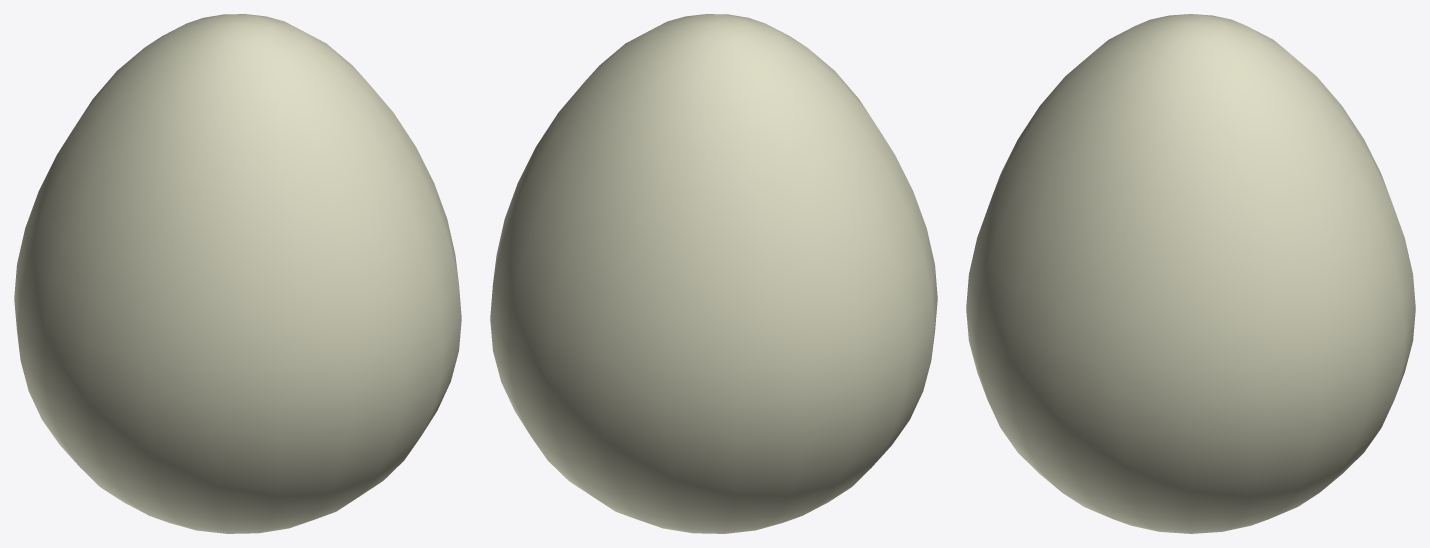
The model's file is jidan.fbx.
3 renders of one model, left to right at view 1: azimuth 30°, elevation 25°; view 2: azimuth 150°, elevation 25°; view 3: azimuth 270°, elevation 25°, orthographic.
Parts seen in each view (by area): view 1: JD; view 2: JD; view 3: JD.
Boxes of the visible parts, x1,y1,x2,y2 form: JD: (14,14,461,533); JD: (490,14,937,533); JD: (966,14,1415,533).
Bounding box in the file's own units: 2 × 2 × 2.4.
